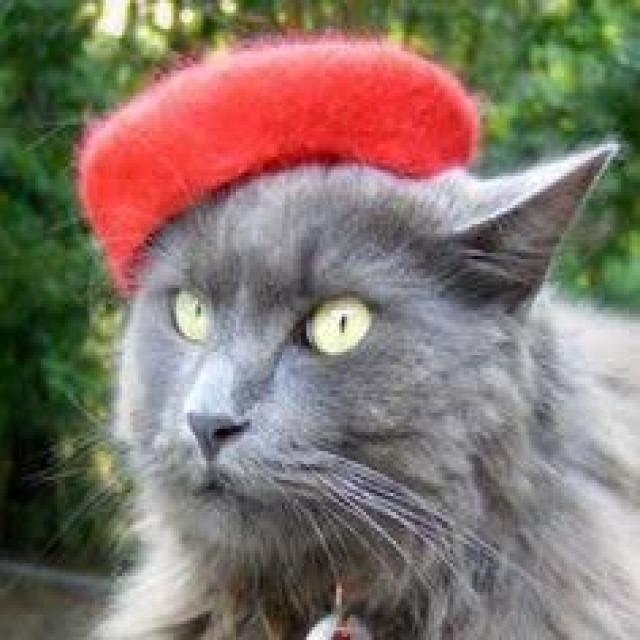Cat: (95, 140, 640, 640)
